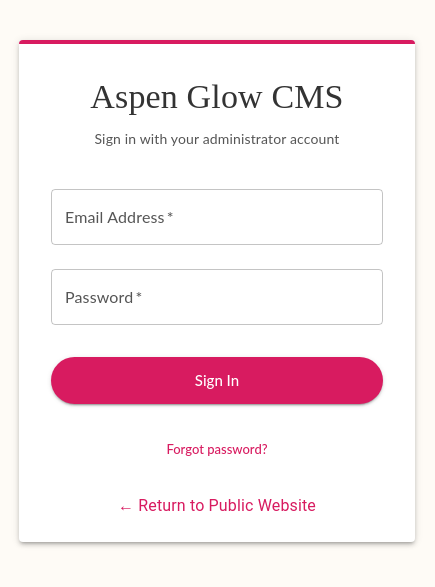
Test: Ticket 1 — Public Access & Admin Authentication › validates required email and password fields on login submit
The image size is (435, 587).
What coordinates should you click on to do the following:
click the button "Sign In"
I would click on:
 (217, 381)
Its box is [51,357,383,404].
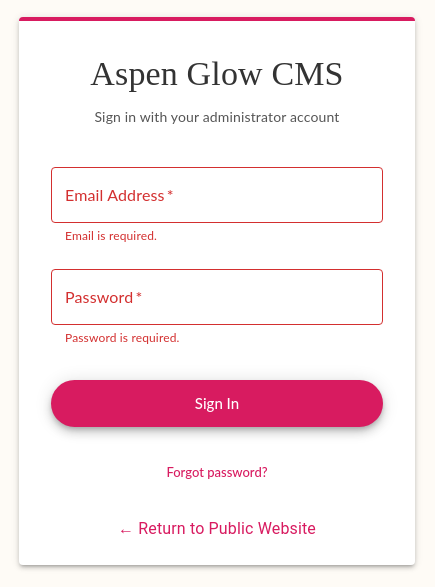
Check: the text "Email is required." is shown, box [65,228,157,242]
Check: the text "Password is required." is shown, box [65,330,180,345]
